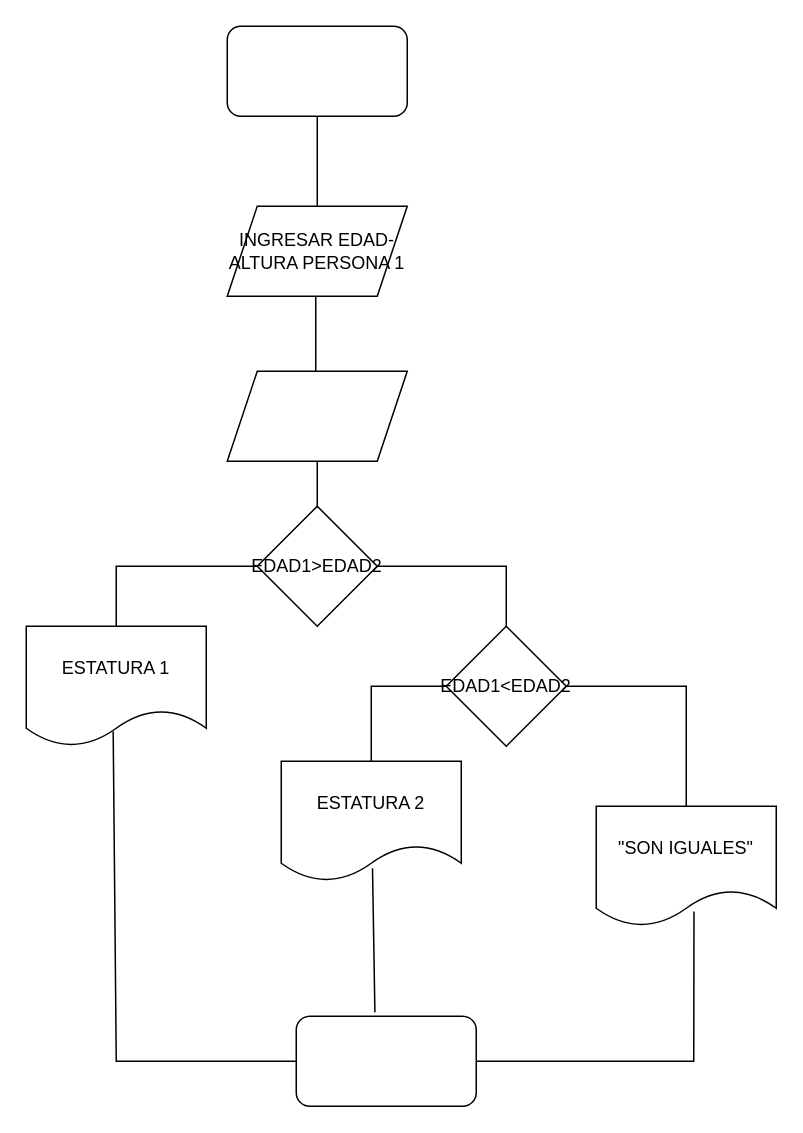
The diagram is 803 pixels wide and 1133 high, and some of its shapes have lost their labels. The centre of each missing label's shape, as x and y in pixels:
FIN: point 385,1060
INGRESAR EDAD-ALTURA PERSONA 2: point 316,415
INICIO: point 316,70
